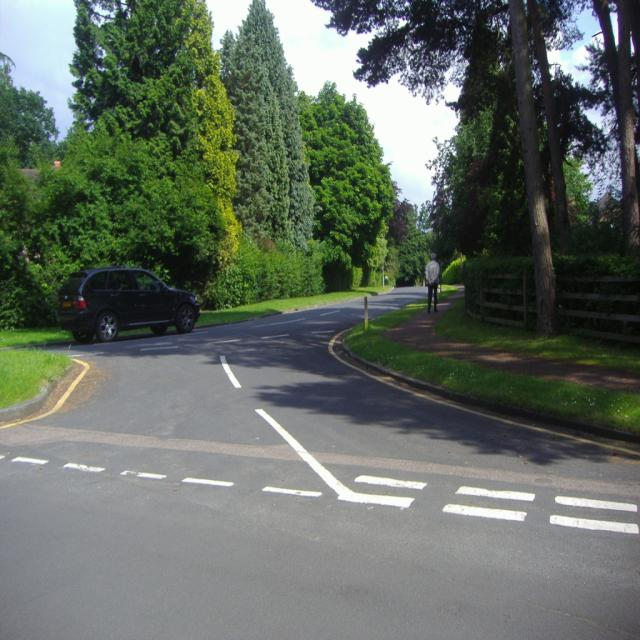car: (54, 262, 200, 341)
